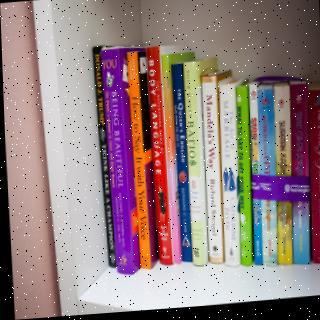book: (89, 41, 152, 268), (180, 60, 227, 275), (168, 56, 213, 265), (159, 51, 200, 265), (217, 75, 257, 270), (196, 68, 234, 271), (284, 82, 315, 281), (143, 43, 170, 269), (231, 78, 260, 272), (254, 79, 282, 273), (270, 83, 292, 268), (245, 77, 264, 267), (302, 85, 320, 278)
